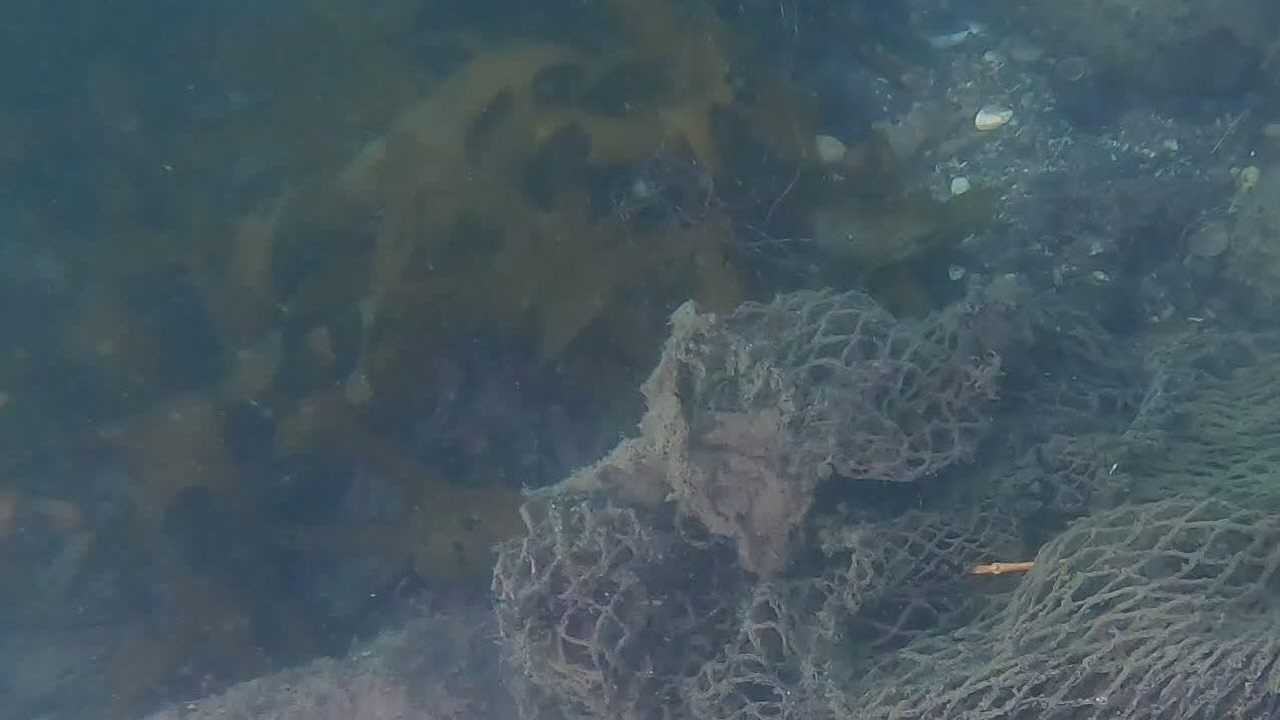fish net: (490, 293, 1276, 720)
